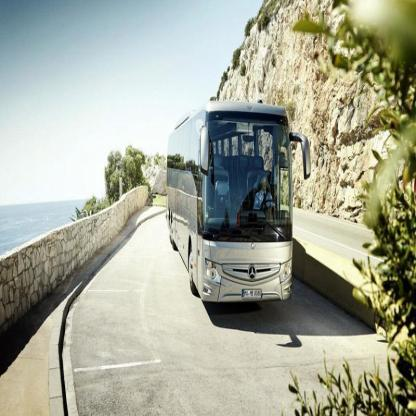Bus: (165, 99, 310, 323)
